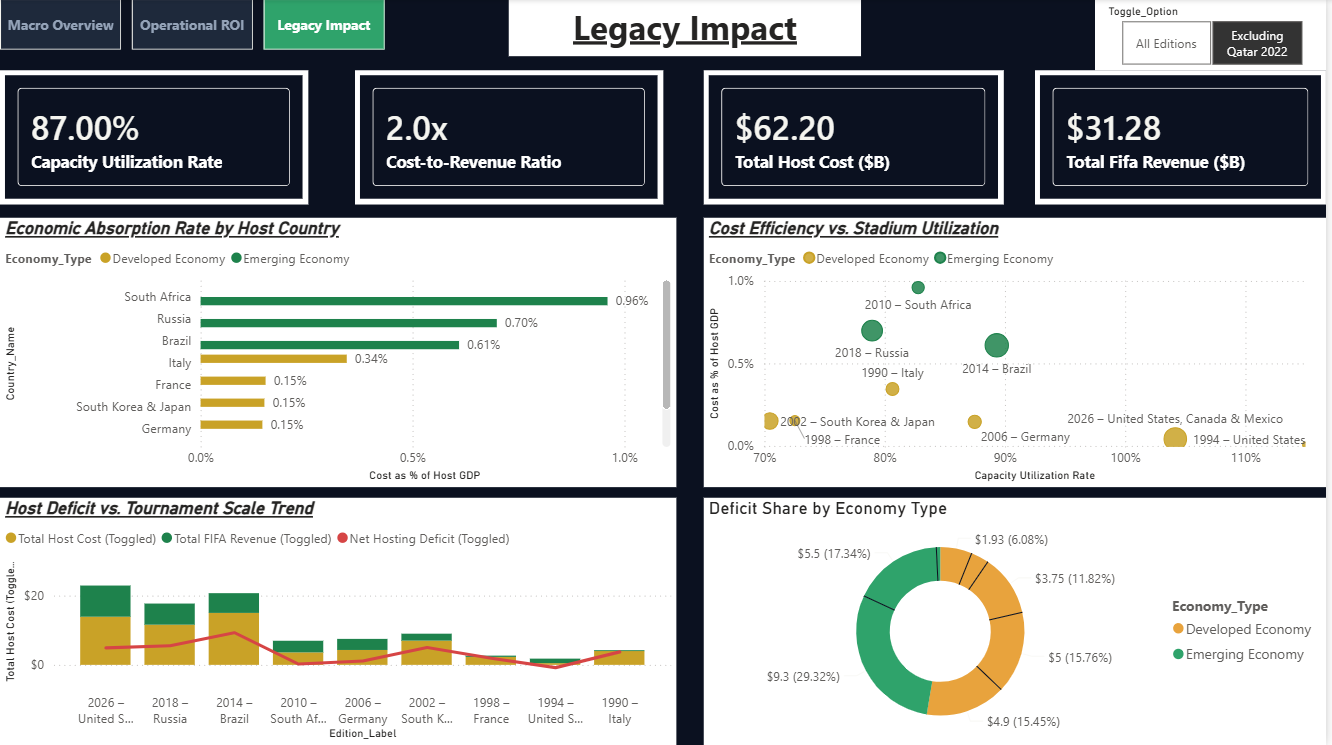

This screenshot's page, from the dashboard's own definition file:
{"tool":"powerbi","page":{"name":"Legacy Impact","canvas":[1280,720],"ordinal":2},"visuals":[{"type":"slicer","fields":{"Values":["Dim_Outlier_Toggle.Toggle_Option"]},"box":[1056.3,0,223.7,68.6],"z":0},{"type":"cardVisual","fields":{"Data":["Measure.Total Host Cost (Toggled)"]},"box":[679,68.2,289.4,129.4],"z":1000},{"type":"cardVisual","fields":{"Data":["Measure.Total FIFA Revenue (Toggled)"]},"box":[999,68.2,281,129.4],"z":2000},{"type":"cardVisual","fields":{"Data":["Measure.Cost-to-Revenue Ratio (Toggled)"]},"box":[342.3,68.2,297.7,129.4],"z":3000},{"type":"cardVisual","fields":{"Data":["Measure.Capacity Utilization Rate"]},"box":[0,68.2,297.7,129.4],"z":4000},{"type":"clusteredBarChart","title":"Economic Absorption Rate by Host Country","fields":{"Category":["Dim_Host_Country.Country_Name"],"Y":["Measure.Cost as % of Host GDP"],"Series":["Dim_Host_Country.Economy_Type"]},"box":[0,211.5,652.5,260.2],"z":5000},{"type":"textbox","box":[491,0,340.2,55.5],"z":6000},{"type":"scatterChart","title":"Cost Efficiency vs. Stadium Utilization","fields":{"X":["Measure.Capacity Utilization Rate"],"Y":["Measure.Cost as % of Host GDP"],"Category":["Dim_Edition.Edition_Label"],"Size":["Measure.Total Host Cost (Toggled)"],"Series":["Dim_Host_Country.Economy_Type"]},"box":[679,211.5,601,260.2],"z":7000},{"type":"lineStackedColumnComboChart","title":"Host Deficit vs. Tournament Scale Trend","fields":{"Category":["Dim_Edition.Edition_Label"],"Y":["Measure.Total Host Cost (Toggled)","Measure.Total FIFA Revenue (Toggled)"],"Y2":["Measure.Net Hosting Deficit (Toggled)"]},"box":[0,481,653,239],"z":8000},{"type":"donutChart","title":"Deficit Share by Economy Type","fields":{"Category":["Dim_Host_Country.Economy_Type"],"Series":["Dim_Host_Country.Country_Name"],"Y":["Measure.Net Hosting Deficit (Toggled)"]},"box":[679,481,601,239],"z":9000},{"type":"pageNavigator","box":[0,0,374,49.5],"z":10000}]}

Visuals, with their boxes in screenshot pixels (x1, y1, x2, y2), scaled from the page's 1280x720 canvas onto the 1332x745 screenshot:
slicer - Dim_Outlier_Toggle.Toggle_Option: Rect(1099, 0, 1331, 71)
cardVisual - Measure.Total Host Cost (Toggled): Rect(707, 71, 1008, 204)
cardVisual - Measure.Total FIFA Revenue (Toggled): Rect(1040, 71, 1331, 204)
cardVisual - Measure.Cost-to-Revenue Ratio (Toggled): Rect(356, 71, 666, 204)
cardVisual - Measure.Capacity Utilization Rate: Rect(0, 71, 310, 204)
"Economic Absorption Rate by Host Country" clusteredBarChart: Rect(0, 219, 679, 488)
textbox: Rect(511, 0, 865, 57)
"Cost Efficiency vs. Stadium Utilization" scatterChart: Rect(707, 219, 1331, 488)
"Host Deficit vs. Tournament Scale Trend" lineStackedColumnComboChart: Rect(0, 498, 680, 744)
"Deficit Share by Economy Type" donutChart: Rect(707, 498, 1331, 744)
pageNavigator: Rect(0, 0, 389, 51)
